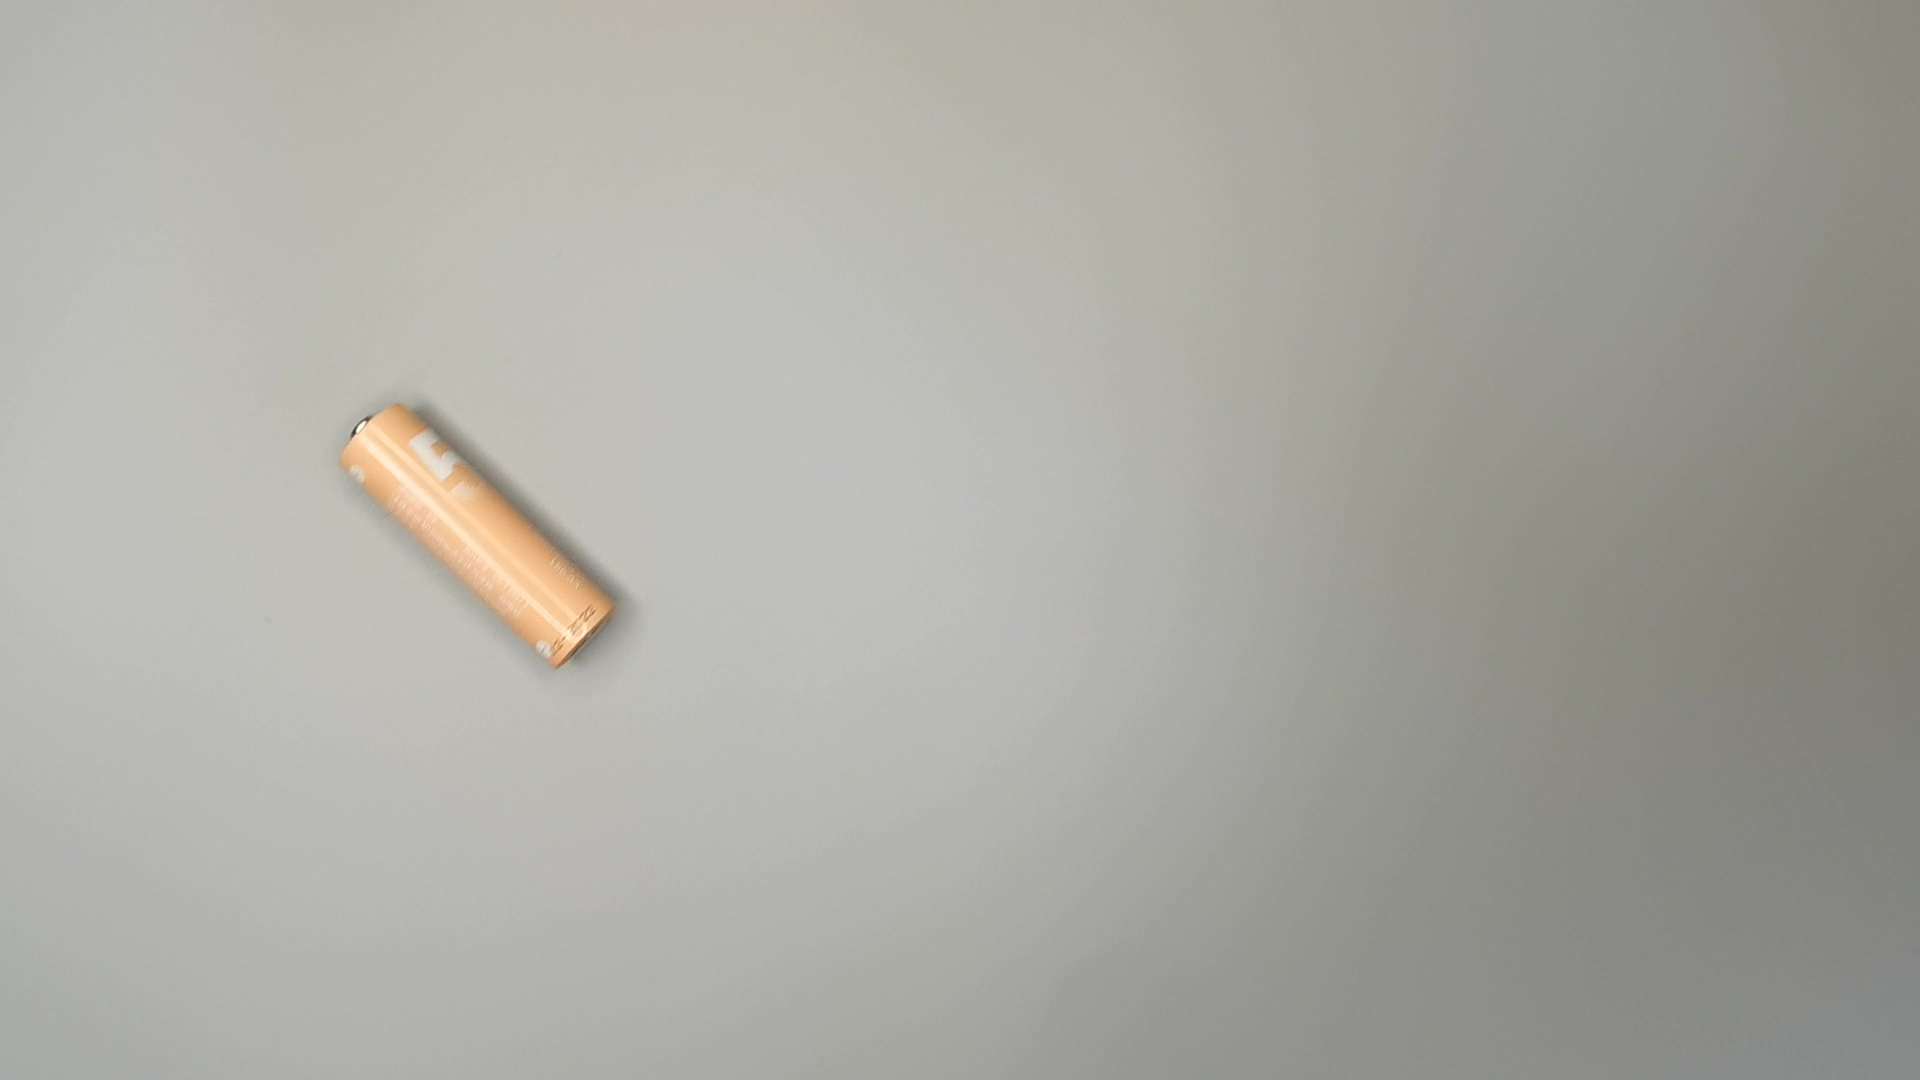battery: (330, 397, 625, 682)
